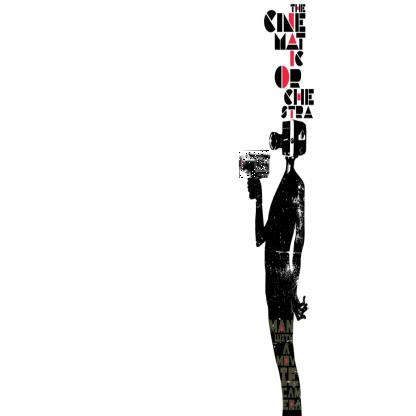Camera: (240, 151, 271, 180)
